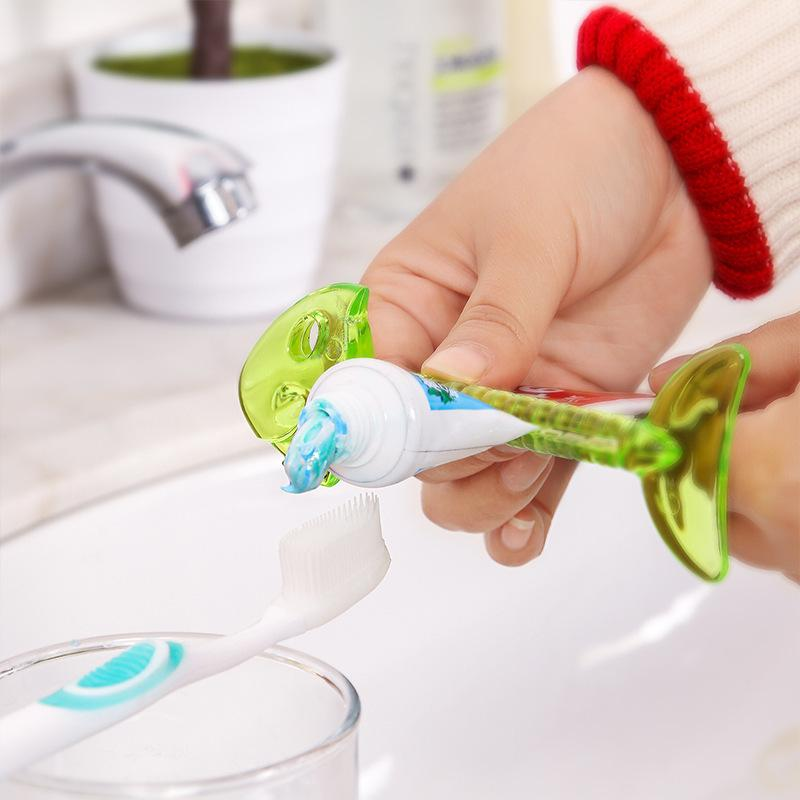toothpaste: (260, 327, 580, 481)
